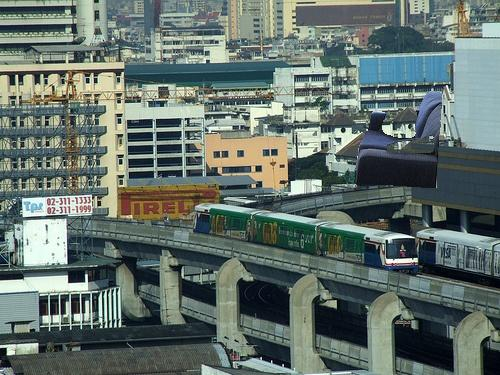tampered: (355, 92, 442, 188)
